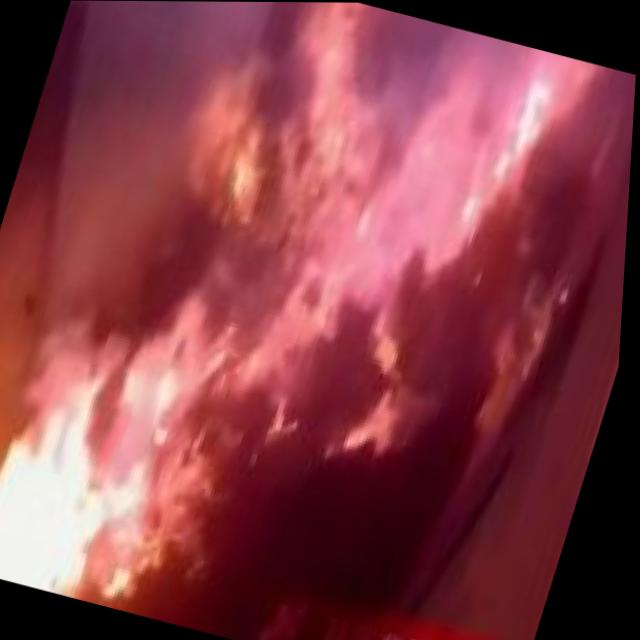fire: (111, 1, 640, 513), (0, 233, 294, 624)
